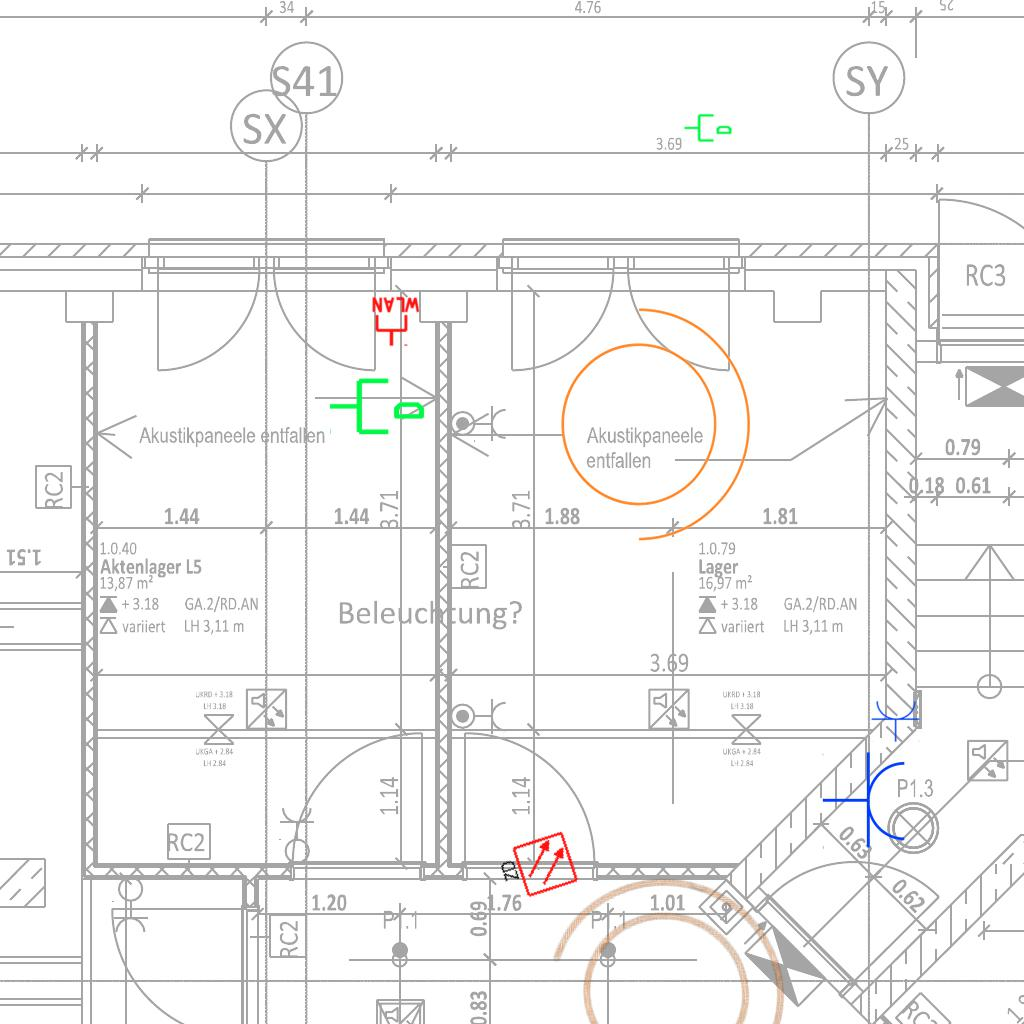Datenanschluss_einfach: (327, 370, 427, 439), (683, 110, 733, 144)
Scheinwerfer_fuer_Alarmbeleuchtung: (503, 835, 823, 1024), (536, 286, 761, 550)
Schukosteckdose_einfach: (822, 751, 909, 851), (871, 699, 921, 742)
WLAN: (370, 296, 422, 348)
ZD_Melder_in_Zwischendecke_mit_Revisionsoeffnung_mind_40_x_40_cm: (492, 829, 581, 907)
